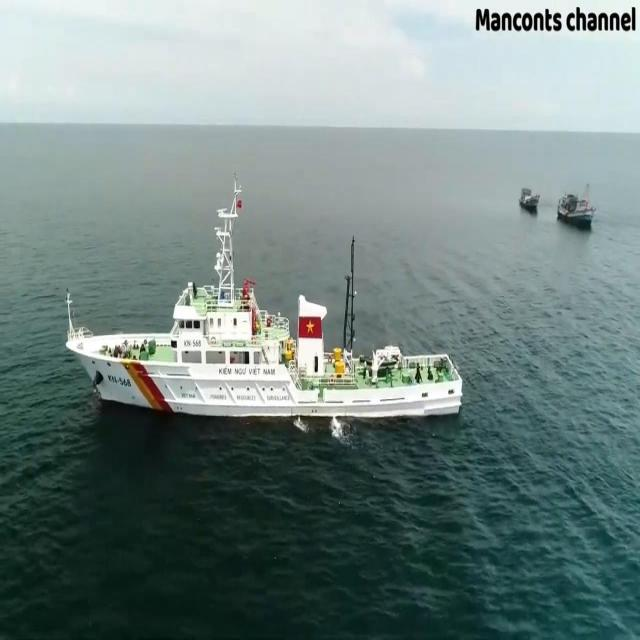Ship: (65, 201, 464, 421), (558, 190, 597, 230), (521, 176, 544, 211)
